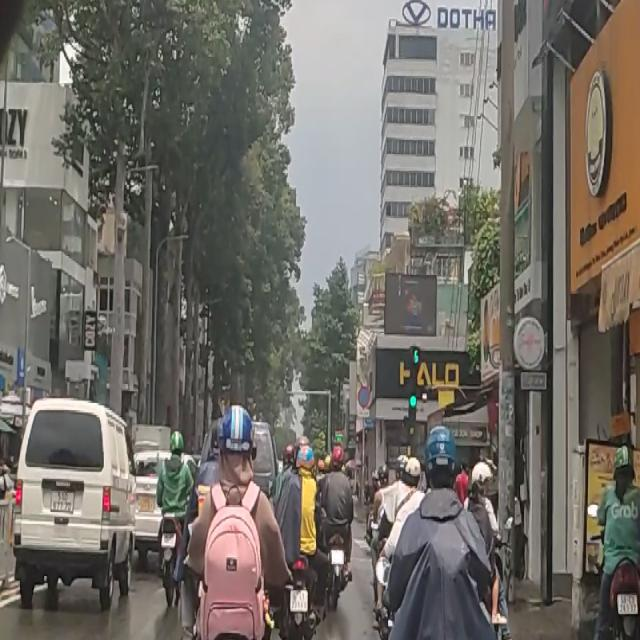Bien bao cam do xe: (359, 384, 371, 409)
